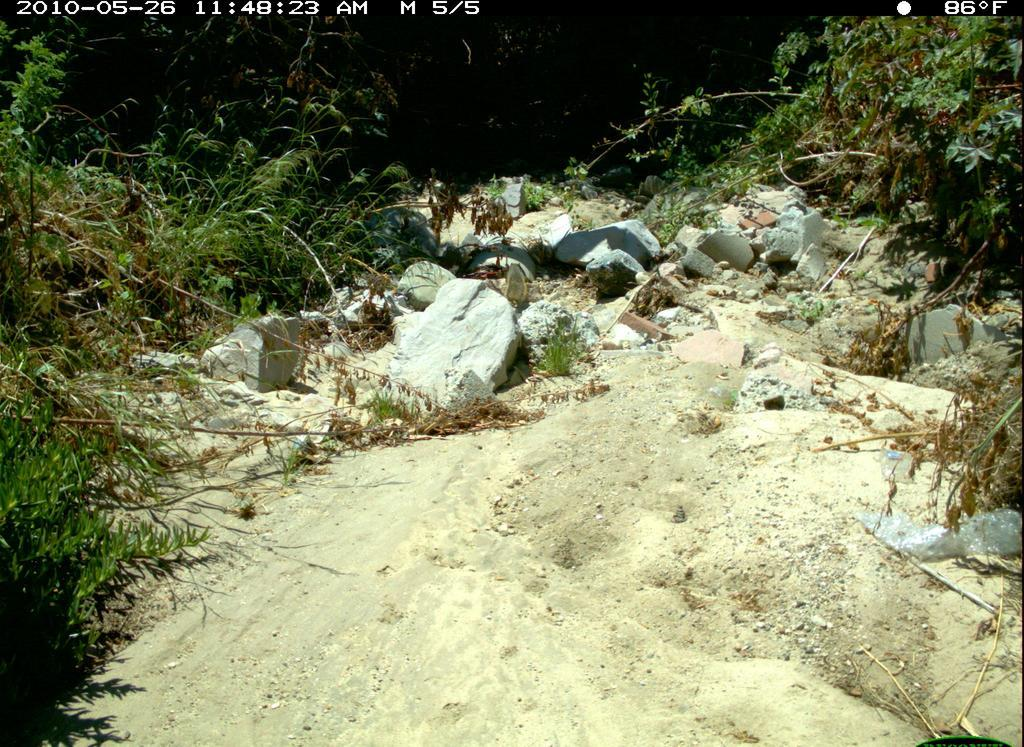squirrel: (501, 251, 543, 320)
